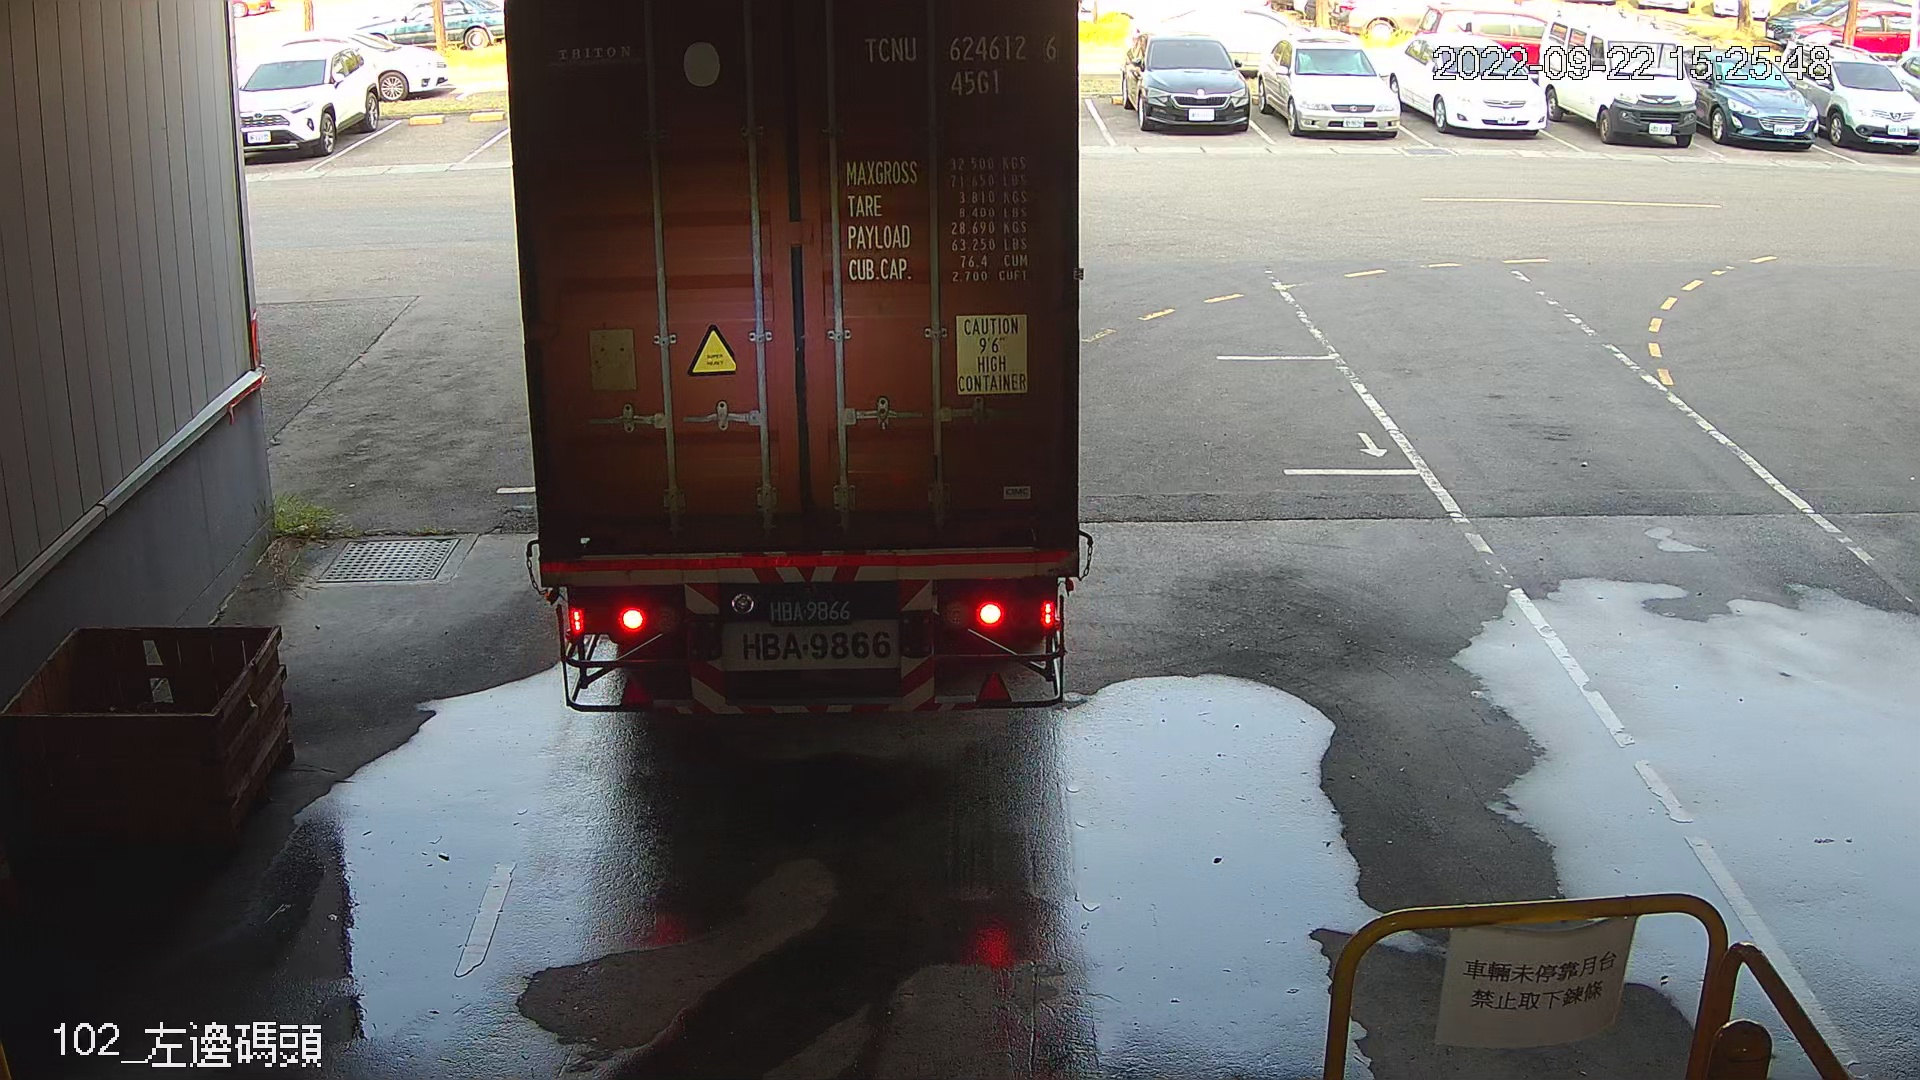container: (856, 26, 1067, 104)
